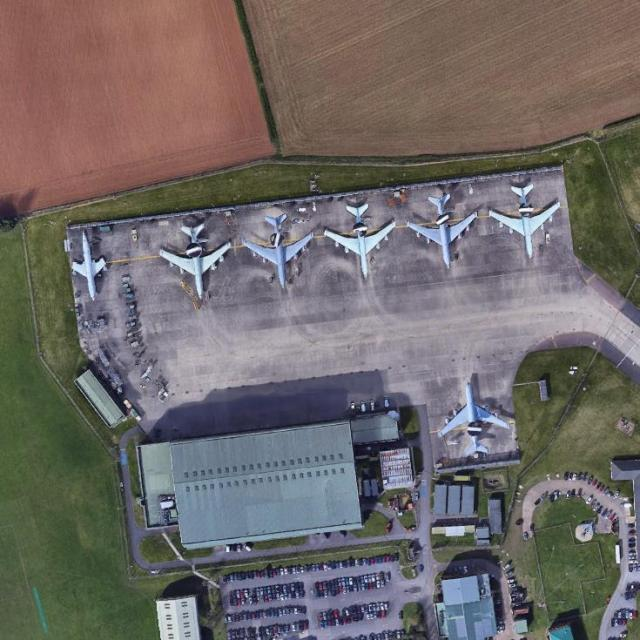fighter jet: (435, 373, 514, 461), (157, 228, 235, 300), (323, 204, 392, 275), (489, 182, 558, 252), (245, 212, 311, 283), (408, 196, 471, 268), (68, 231, 115, 299)
